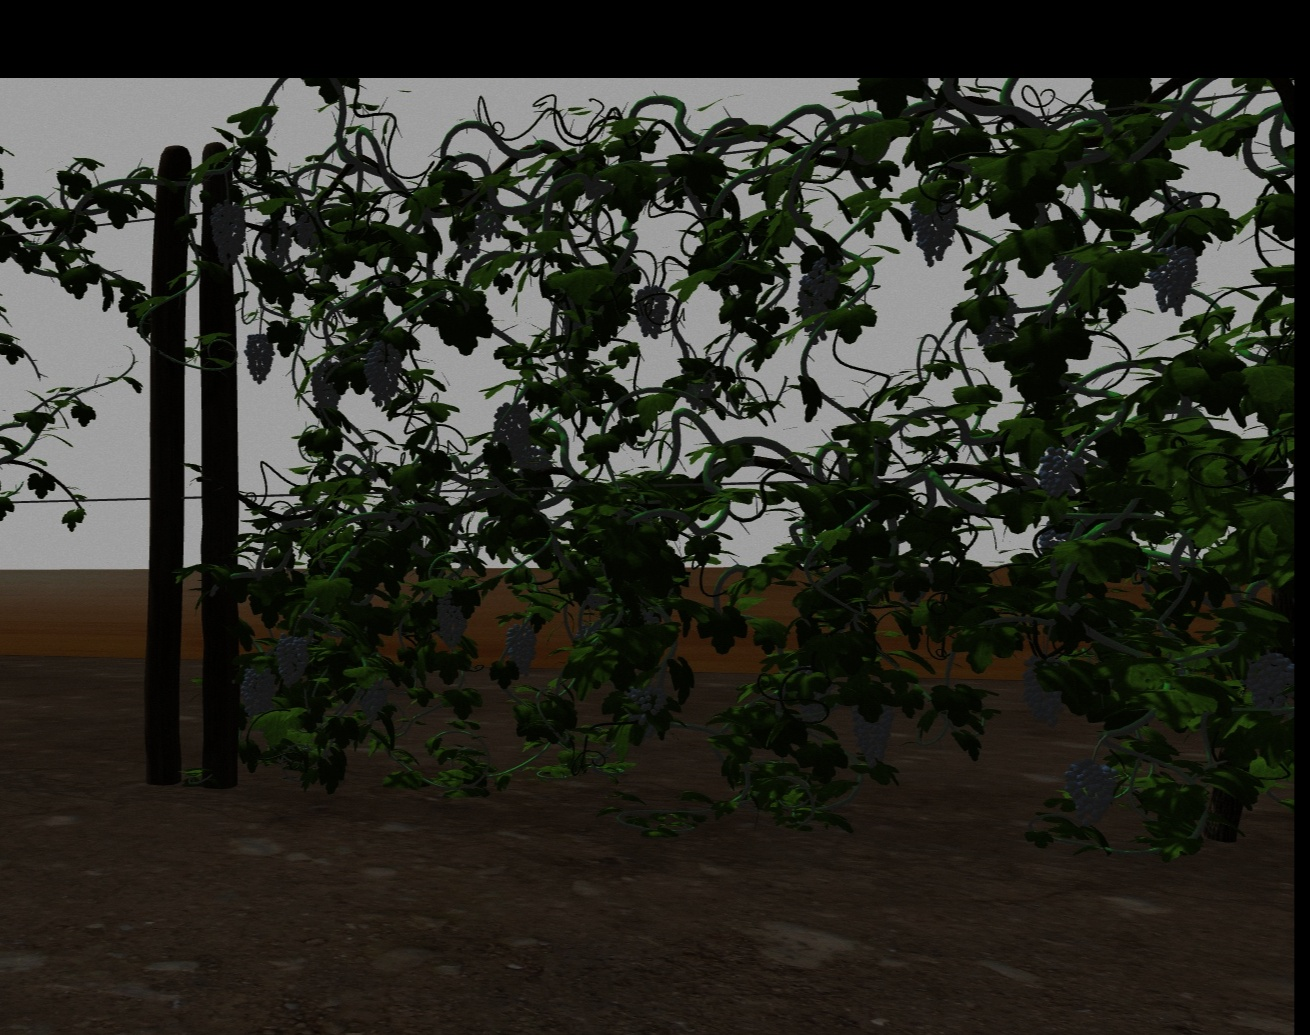grape: (1063, 755, 1116, 827), (1151, 244, 1199, 315), (911, 197, 958, 267), (1020, 655, 1064, 727), (850, 702, 894, 767), (1246, 653, 1294, 713), (209, 197, 246, 273), (363, 341, 401, 404), (1035, 446, 1086, 493), (632, 284, 671, 337), (494, 403, 531, 456), (274, 634, 310, 687), (237, 668, 275, 718), (795, 288, 830, 343), (435, 591, 469, 646), (504, 622, 537, 677), (243, 331, 275, 383), (309, 363, 343, 411), (259, 218, 291, 268), (356, 677, 389, 720), (807, 261, 840, 299), (631, 683, 669, 714), (295, 210, 325, 248), (478, 201, 503, 240)
